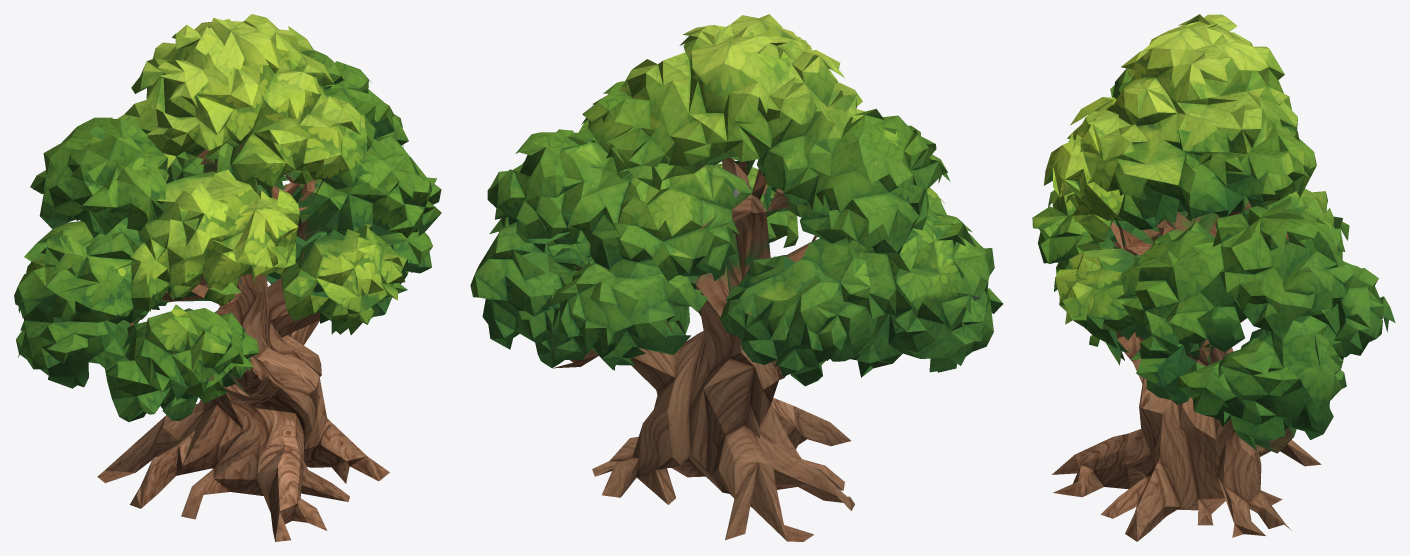
Rendered from tree_oak.glb.
The picture shows the model from 3 angles, left to right: view 1: azimuth 30°, elevation 25°; view 2: azimuth 150°, elevation 25°; view 3: azimuth 270°, elevation 25°; orthographic projection. The views are drawn at different scales.
Bounding box in the file's own units: 1.89 × 1.88 × 1.35.
Materials: 1 (1 with a texture image).
